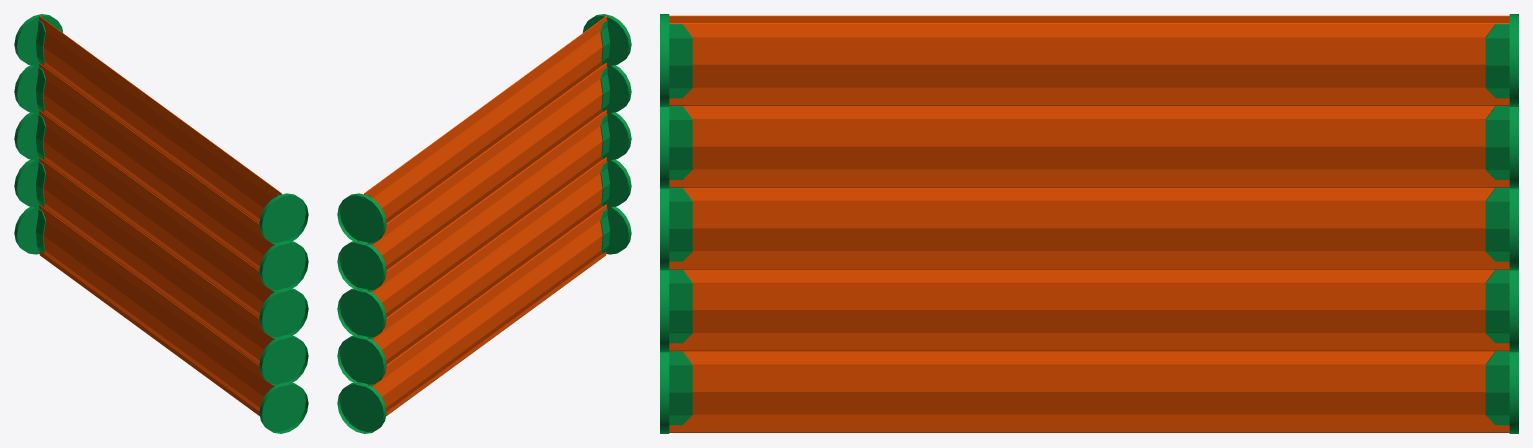
File: Zaslonka2Close.FBX
The picture shows the model from 3 angles, left to right: view 1: azimuth 30°, elevation 25°; view 2: azimuth 150°, elevation 25°; view 3: azimuth 270°, elevation 25°; orthographic projection. The views are drawn at different scales.
Parts seen in each view (by area): view 1: Zaslonka020, Zaslonka016, Zaslonka018, Zaslonka017, Zaslonka019; view 2: Zaslonka020, Zaslonka016, Zaslonka017, Zaslonka018, Zaslonka019; view 3: Zaslonka016, Zaslonka018, Zaslonka019, Zaslonka017, Zaslonka020.
Boxes of the visible parts, x1,y1,x2,y2 form: Zaslonka020: (14, 204, 308, 433); Zaslonka016: (14, 14, 308, 245); Zaslonka018: (14, 110, 308, 339); Zaslonka017: (14, 63, 308, 292); Zaslonka019: (14, 157, 308, 386); Zaslonka020: (337, 204, 631, 433); Zaslonka016: (337, 14, 631, 245); Zaslonka017: (337, 63, 631, 292); Zaslonka018: (337, 110, 631, 339); Zaslonka019: (337, 157, 631, 386); Zaslonka016: (660, 14, 1518, 106); Zaslonka018: (660, 187, 1518, 270); Zaslonka019: (660, 269, 1518, 352); Zaslonka017: (660, 106, 1518, 188); Zaslonka020: (660, 351, 1518, 433).
Size of the model in its own units: 91.32 by 449 by 841.
